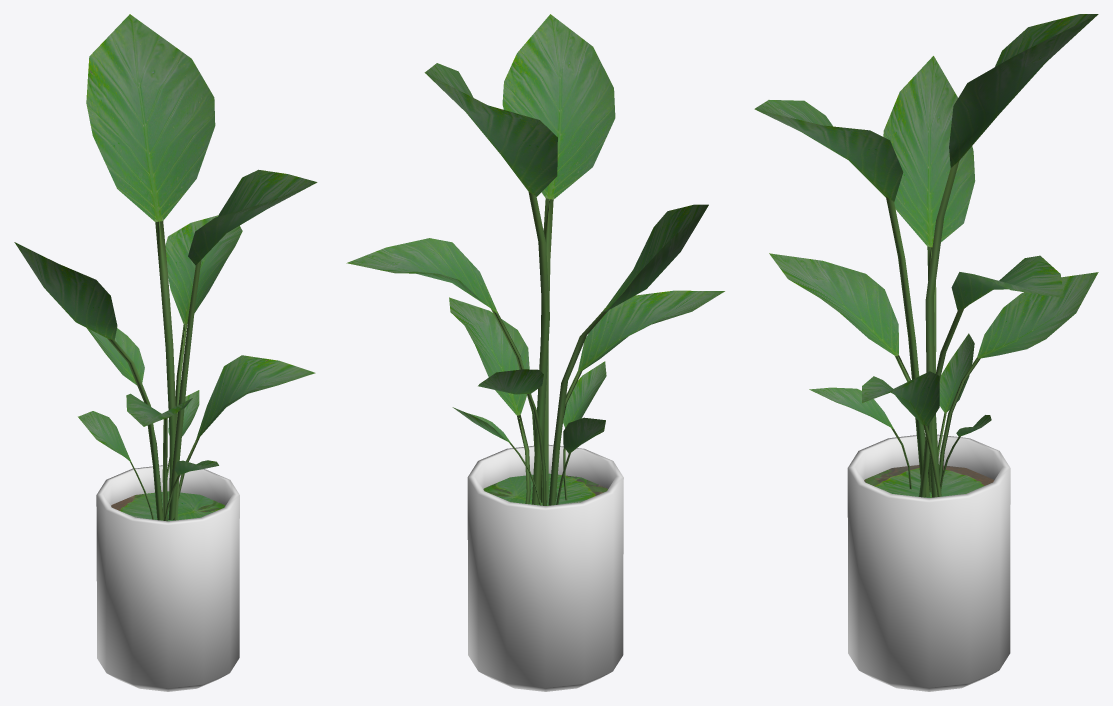
File: Potted_Plant_Mediterranean_med_leaf_low_poly.glb
3 views of the same model, side by side, from view 1: azimuth 30°, elevation 25°; view 2: azimuth 150°, elevation 25°; view 3: azimuth 270°, elevation 25° (orthographic). The views are drawn at different scales.
Visible parts, largest first — view 1: unnamed (×12); view 2: unnamed (×12); view 3: unnamed (×11).
Part boxes in pixels (x1=…): unnamed (×12): x1=14, y1=14, x2=317, y2=691; unnamed (×12): x1=346, y1=14, x2=724, y2=691; unnamed (×11): x1=754, y1=14, x2=1098, y2=691.
Size of the model in its own units: 4.64 by 9.48 by 4.42.
Materials: 3 (2 with a texture image).
